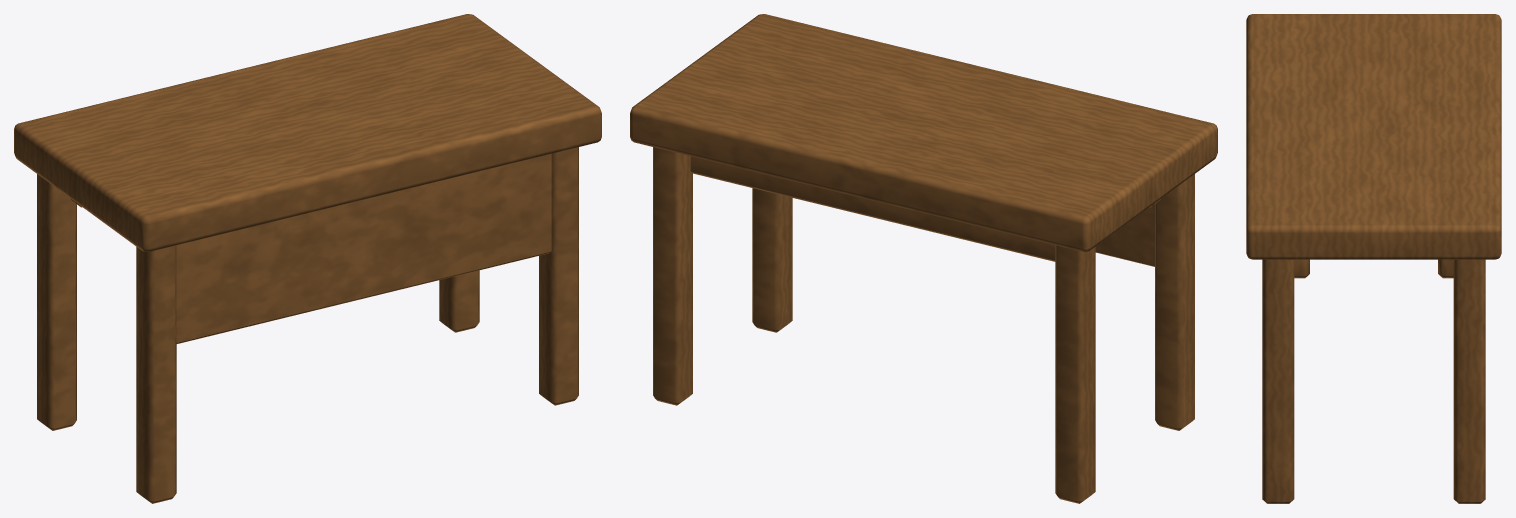
Rendered from Furn_StudentDesk.fbx.
3 renders of one model, left to right at view 1: azimuth 30°, elevation 25°; view 2: azimuth 150°, elevation 25°; view 3: azimuth 270°, elevation 25°, orthographic. The views are drawn at different scales.
Parts seen in each view (by area): view 1: Furn_StudentDesk_Mesh; view 2: Furn_StudentDesk_Mesh; view 3: Furn_StudentDesk_Mesh.
Part boxes in pixels (left/top/right/bottom): Furn_StudentDesk_Mesh: left=14, top=14, right=601, bottom=503; Furn_StudentDesk_Mesh: left=630, top=14, right=1217, bottom=503; Furn_StudentDesk_Mesh: left=1246, top=14, right=1501, bottom=503.
Bounding box in the file's own units: 1.2 × 0.74 × 0.6.
1 material, 1 textured.
